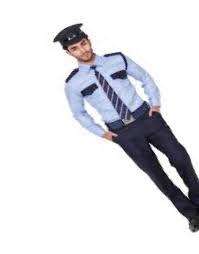uniform: (43, 17, 198, 202)
